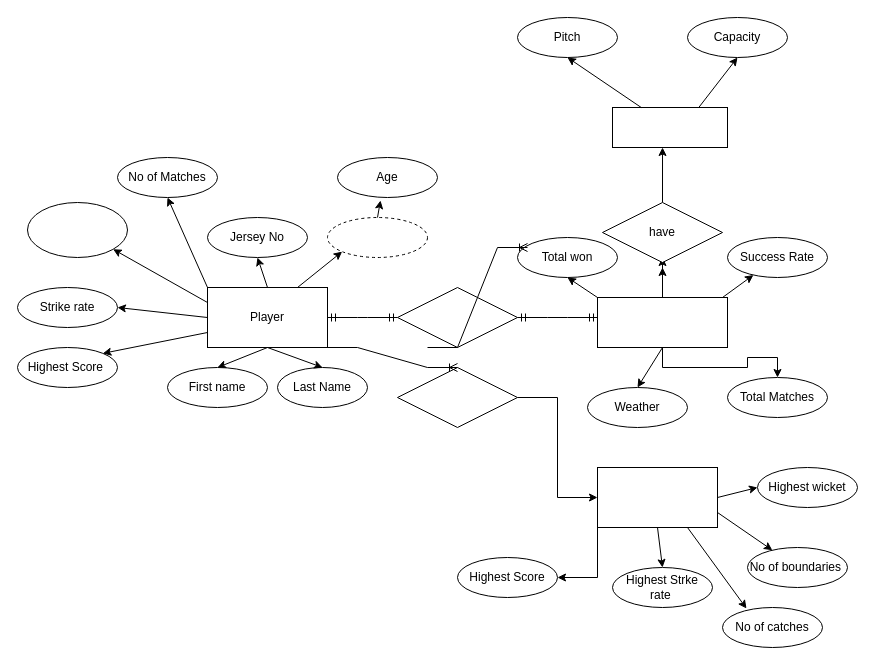
Image size: 875x665. Some labels were removed from this diagram. Here are the shapes that lost their labels. From the top down, the box of each, then its label:
(612, 106, 728, 148): Stadium
(26, 202, 128, 258): No of Runs
(326, 216, 428, 258): Date Of Birth
(396, 286, 518, 348): Play for
(596, 296, 728, 348): Country
(396, 366, 518, 428): Play
(596, 466, 718, 528): Matches
